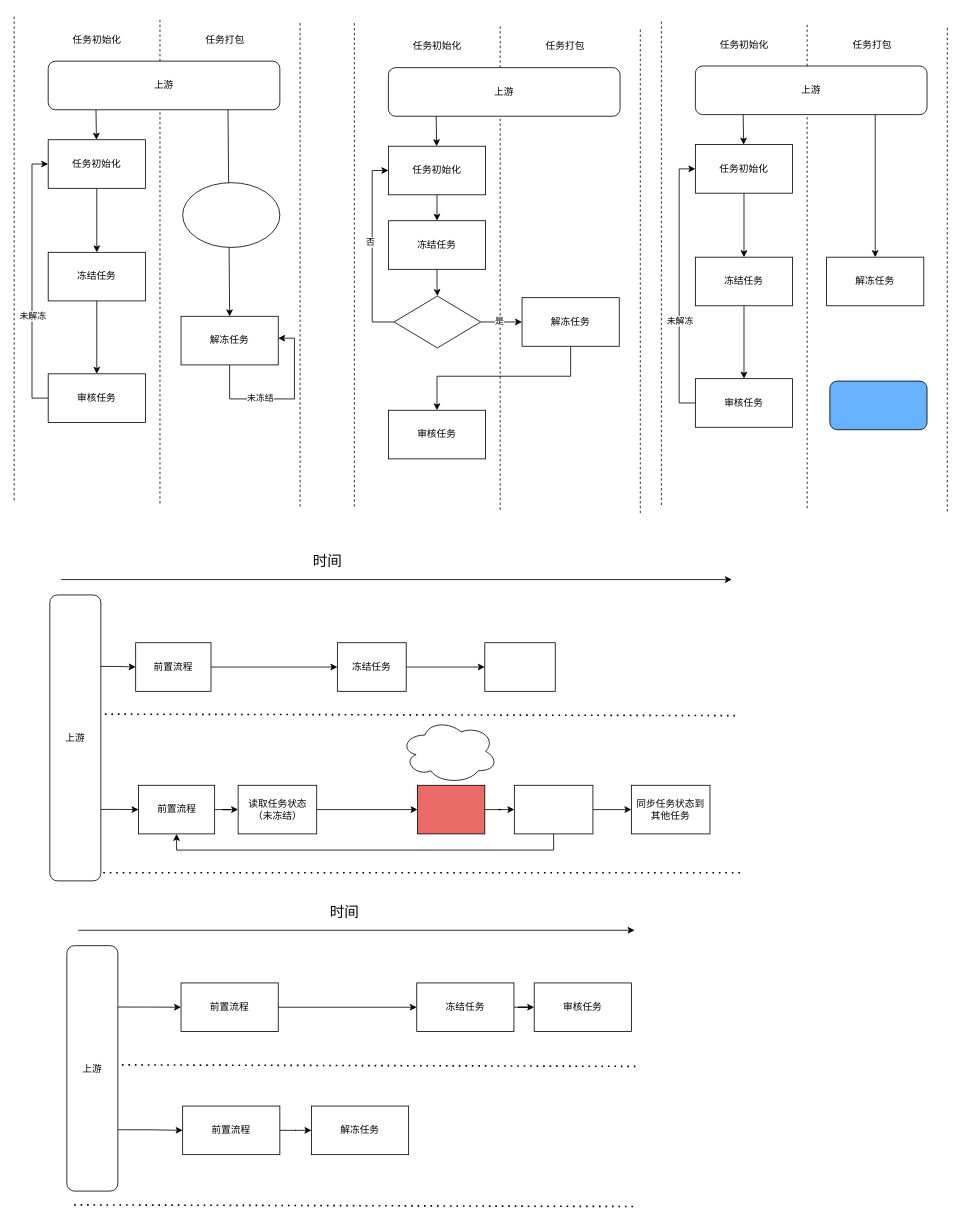
Image size: 962x1222. Some labels were removed from this diagram. The centre of each missing label's shape, as x and y in pixels:
"后续流程" goes at (x=519, y=666).
"增加消费延迟" goes at (x=231, y=214).
"如果批次没有被冻结重新入队" goes at (x=553, y=809).
"定时任务-解冻" goes at (x=878, y=405).
"是否全部冻结" goes at (x=437, y=321).
"给任务生成批次ID 写任务对象" goes at (x=451, y=809).
"覆盖掉了 冻结状态" goes at (x=449, y=751).
